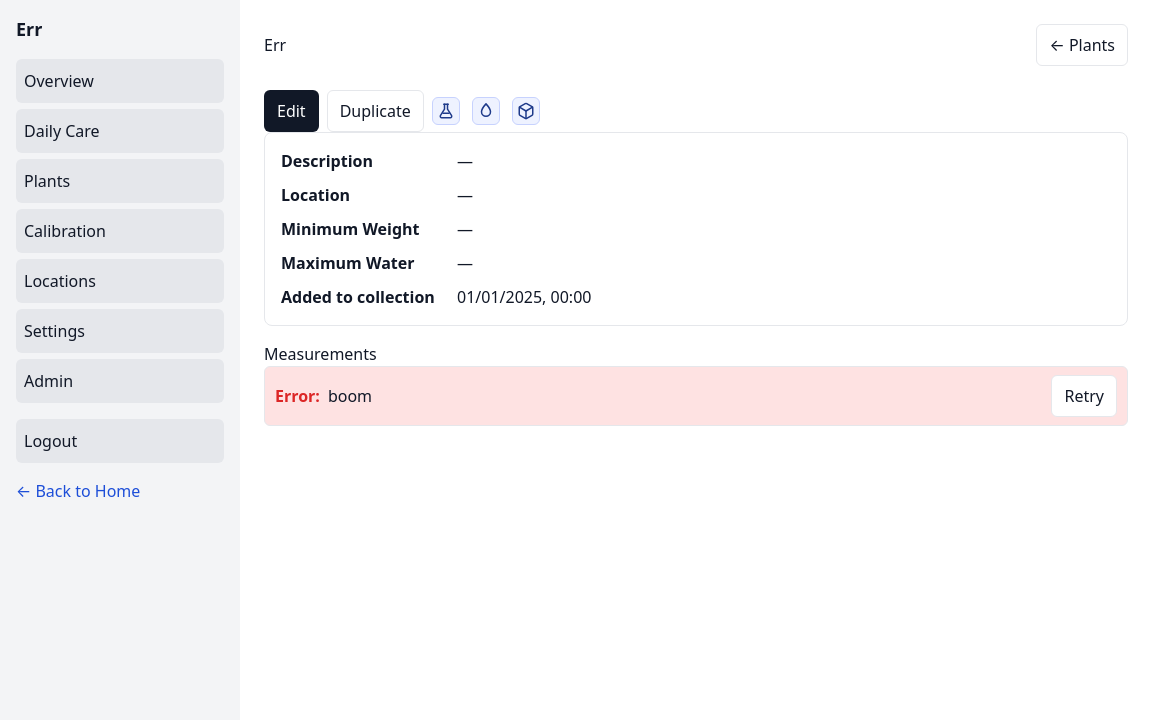
pages/PlantDetails › measurements error shows ErrorNotice and retry reloads
Expected: the message reads "Error: boom Retry", top-left (328, 385), bottom-right (372, 407)
Click retry button on ErrorNotice if present
Click the button "Retry" at (1084,396), box top-left (1052, 375), bottom-right (1117, 417)
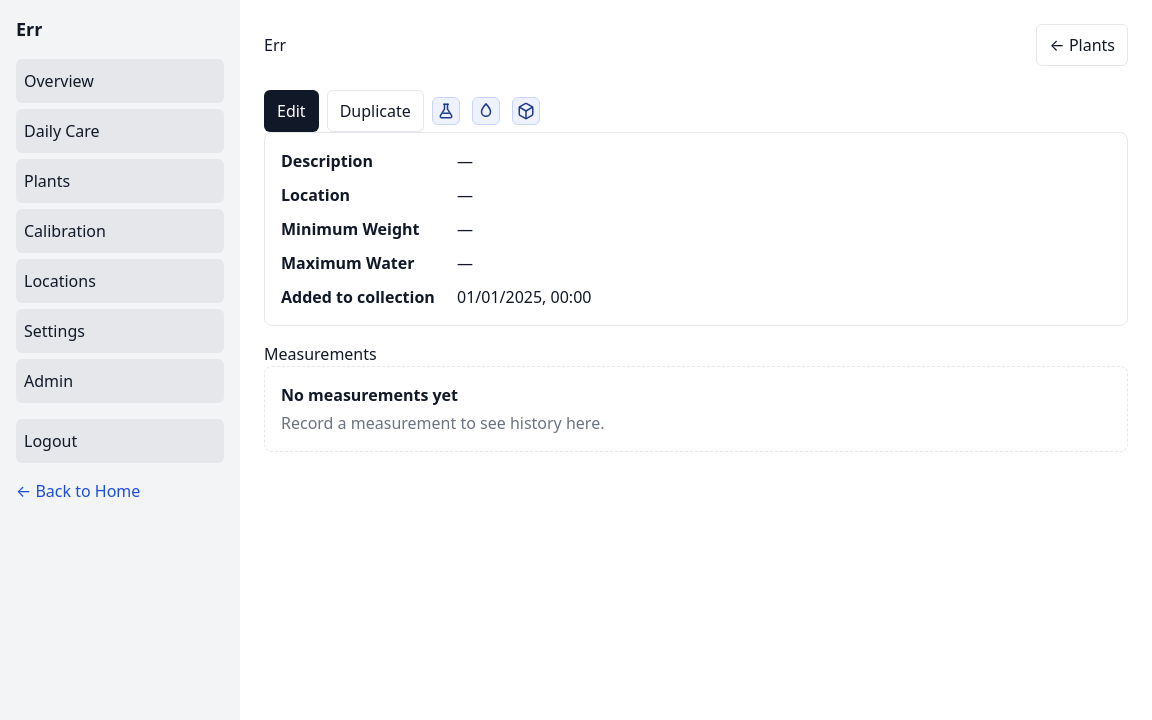
Result: the element that starts with "No measurements yet" is shown at top-left (264, 366), bottom-right (1128, 452)
